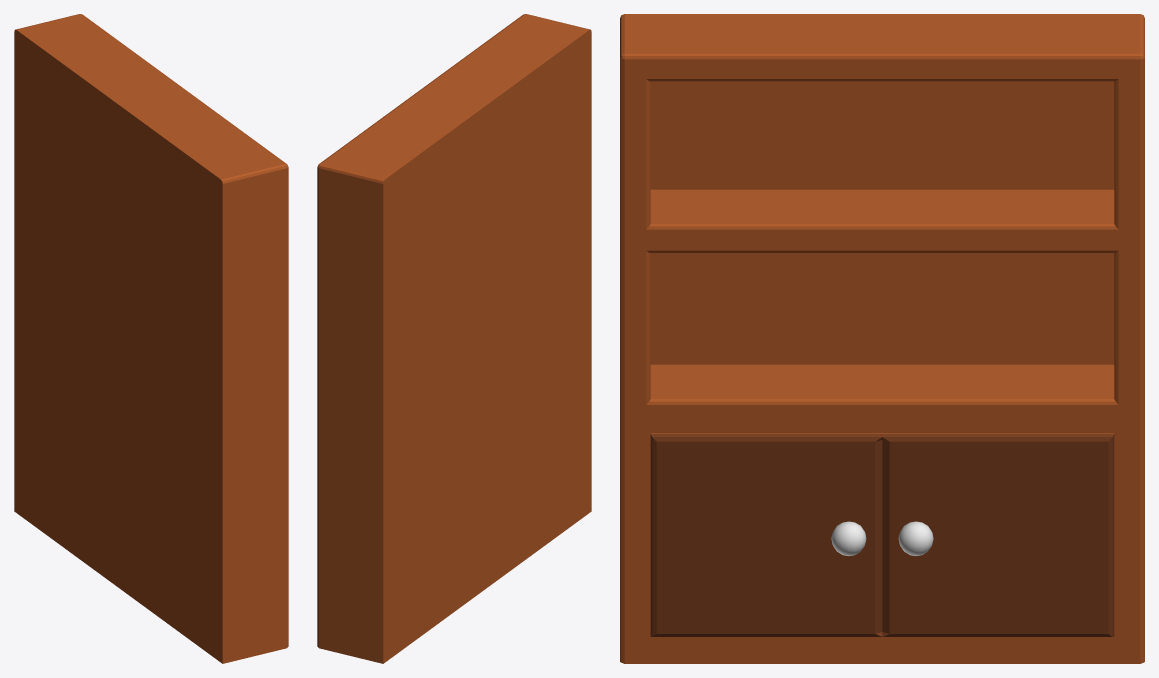
The model's file is Estante.fbx.
3 views of the same model, side by side, from view 1: azimuth 30°, elevation 25°; view 2: azimuth 150°, elevation 25°; view 3: azimuth 270°, elevation 25° (orthographic). The views are drawn at different scales.
Parts seen in each view (by area): view 1: Cube.006; view 2: Cube.006; view 3: Cube.006, Roundcube.001.
Boxes of the visible parts, x1,y1,x2,y2 form: Cube.006: [14, 14, 288, 663]; Cube.006: [317, 14, 591, 663]; Cube.006: [620, 14, 1144, 663]; Roundcube.001: [831, 521, 933, 555].
Size of the model in its own units: 386 by 2031 by 1587.
